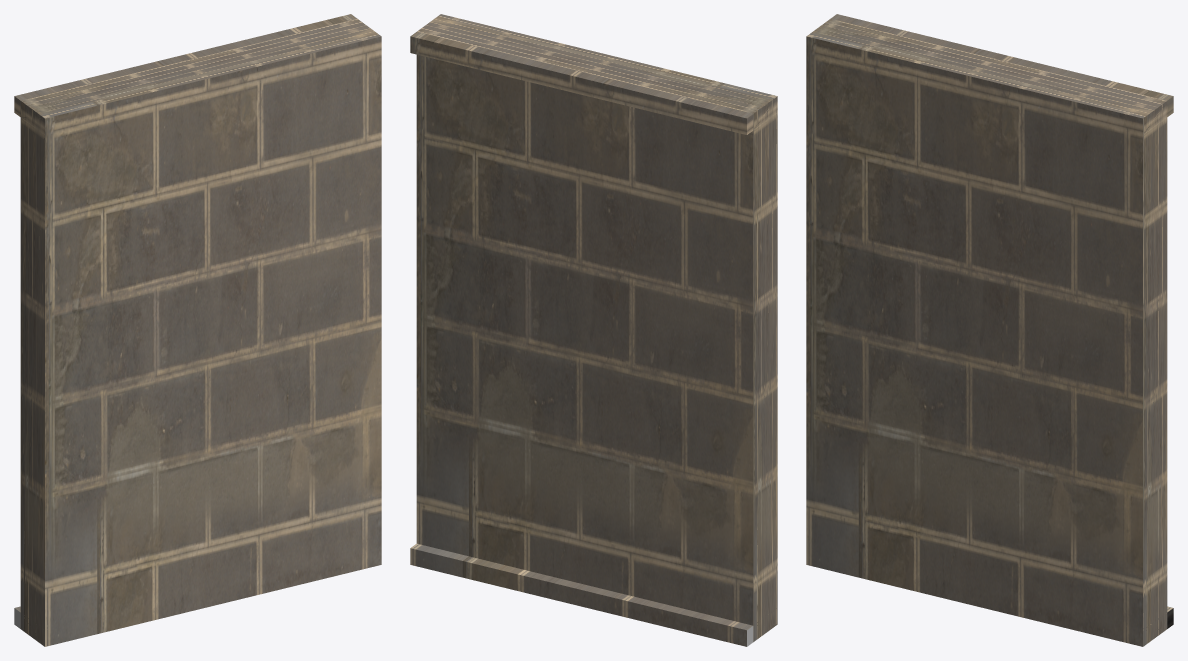
Rendered from Wall_dome_default01.fbx.
3 renders of one model, left to right at view 1: azimuth 30°, elevation 25°; view 2: azimuth 150°, elevation 25°; view 3: azimuth 330°, elevation 25°, orthographic.
Visible parts, largest first — view 1: Wall_dome_default; view 2: Wall_dome_default; view 3: Wall_dome_default.
Part boxes in pixels (x1=…): Wall_dome_default: x1=14, y1=14, x2=381, y2=646; Wall_dome_default: x1=410, y1=14, x2=777, y2=646; Wall_dome_default: x1=806, y1=14, x2=1173, y2=646.
Bounding box in the file's own units: 200 × 300 × 31.48.
